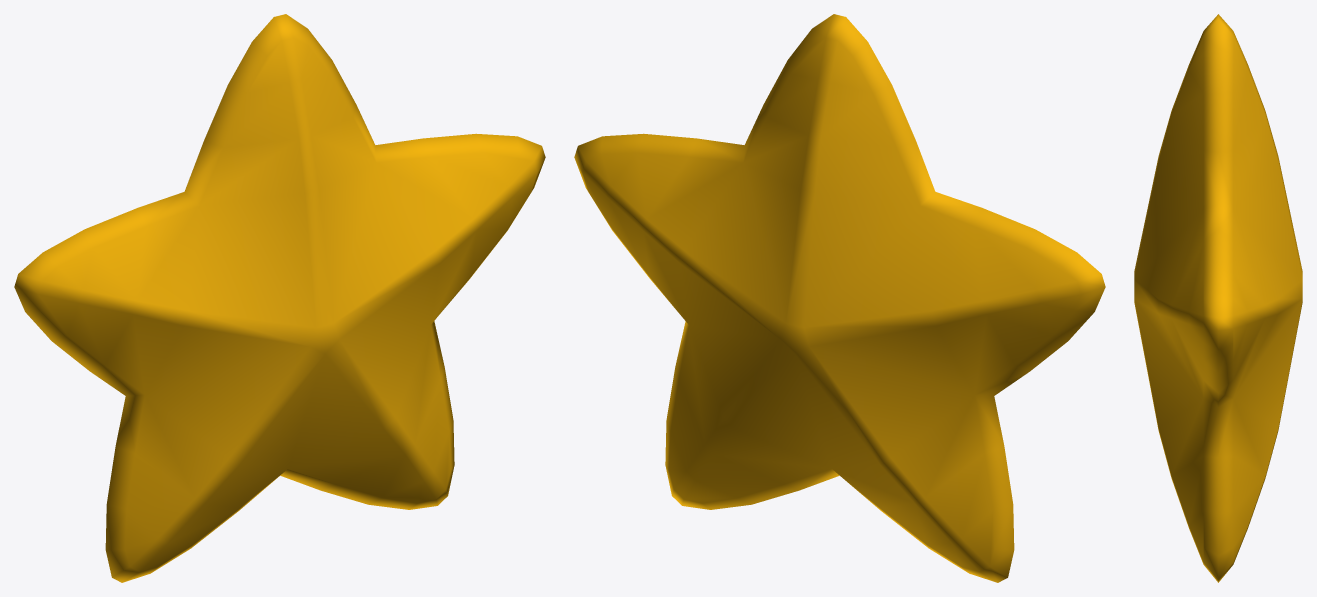
3 renders of one model, left to right at view 1: azimuth 30°, elevation 25°; view 2: azimuth 150°, elevation 25°; view 3: azimuth 270°, elevation 25°, orthographic. The views are drawn at different scales.
Visible parts, largest first — view 1: model_1.147; view 2: model_1.147; view 3: model_1.147.
Part boxes in pixels (box(x1,y1,x2,y2)): model_1.147: box(14, 14, 545, 582); model_1.147: box(574, 14, 1105, 582); model_1.147: box(1134, 14, 1302, 582).
Bounding box in the file's own units: 4.48 × 4.26 × 1.32.
